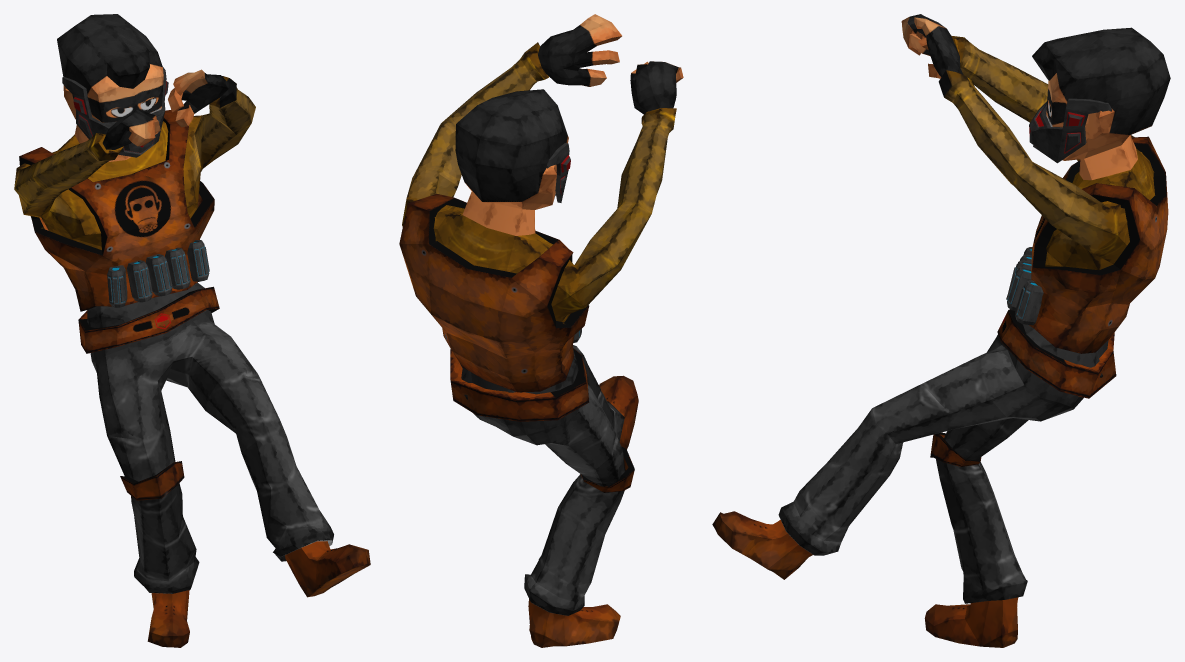
The model's file is RI_Terrorist_1V.fbx.
The picture shows the model from 3 angles, left to right: view 1: azimuth 30°, elevation 25°; view 2: azimuth 150°, elevation 25°; view 3: azimuth 270°, elevation 25°; orthographic projection. The views are drawn at different scales.
Visible parts, largest first — view 1: RI_Terrorist_1V; view 2: RI_Terrorist_1V; view 3: RI_Terrorist_1V.
Part boxes in pixels (left/top/right/bottom): RI_Terrorist_1V: left=14, top=14, right=370, bottom=647; RI_Terrorist_1V: left=399, top=14, right=683, bottom=647; RI_Terrorist_1V: left=712, top=14, right=1170, bottom=647.
Bounding box in the file's own units: 0.6839 × 1.74 × 1.16.
